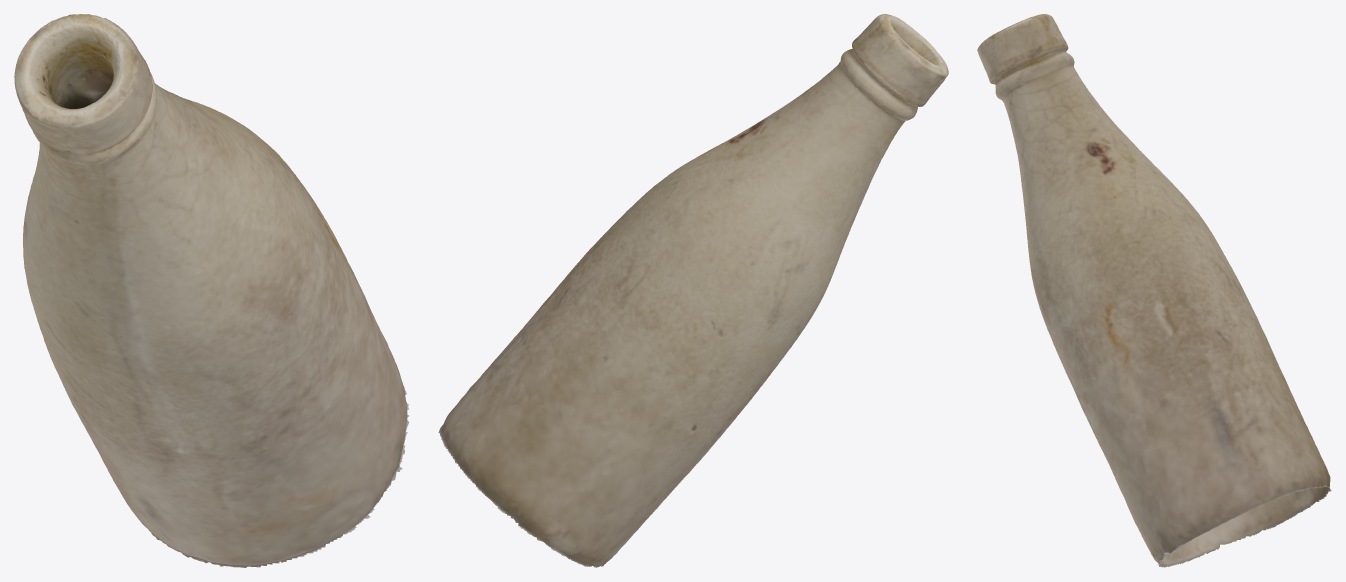
File: ginger_beer_bottle.glb
3 renders of one model, left to right at view 1: azimuth 30°, elevation 25°; view 2: azimuth 150°, elevation 25°; view 3: azimuth 270°, elevation 25°, orthographic. The views are drawn at different scales.
Parts seen in each view (by area): view 1: Object_2, Object_3; view 2: Object_2, Object_3; view 3: Object_2, Object_3.
Boxes of the visible parts, x1,y1,x2,y2 form: Object_2: (14, 14, 409, 565); Object_3: (14, 14, 409, 567); Object_2: (438, 14, 948, 566); Object_3: (497, 14, 946, 567); Object_2: (979, 17, 1330, 567); Object_3: (977, 14, 1331, 566).
Bounding box in the file's own units: 0.1365 × 0.1763 × 0.1238.
